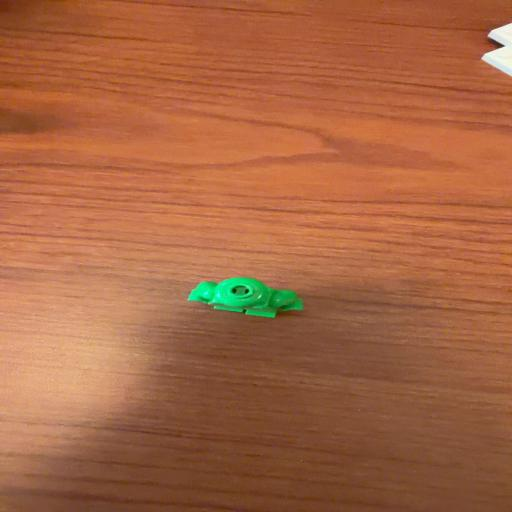UnoQ-minifig-detector: (187, 275, 304, 318)
